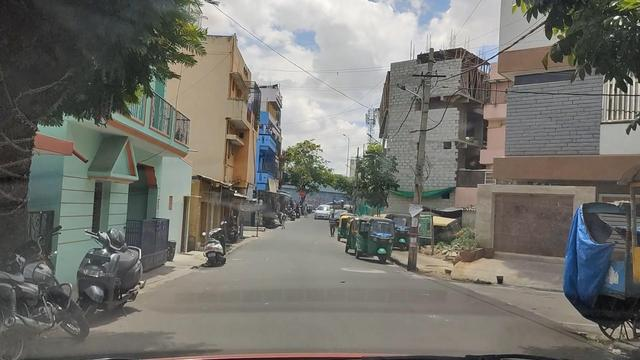LMV: (356, 219, 395, 262)
RoadDamages: (343, 264, 384, 276)
